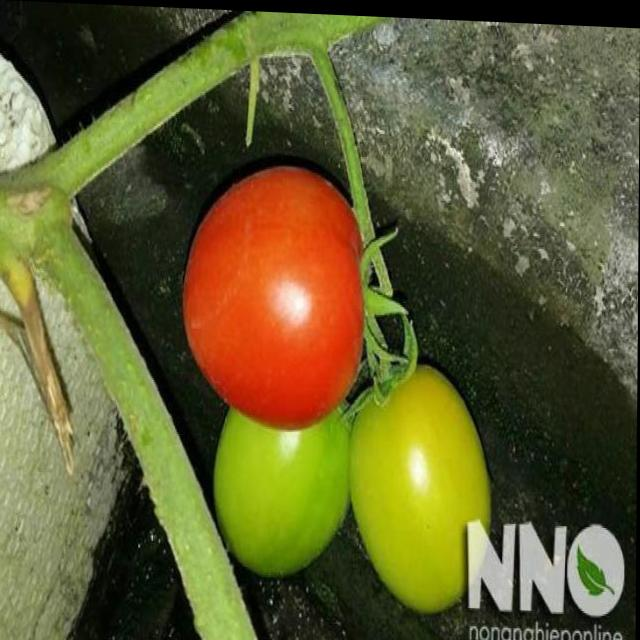kirmizi: (164, 158, 379, 419), (417, 349, 502, 618)
